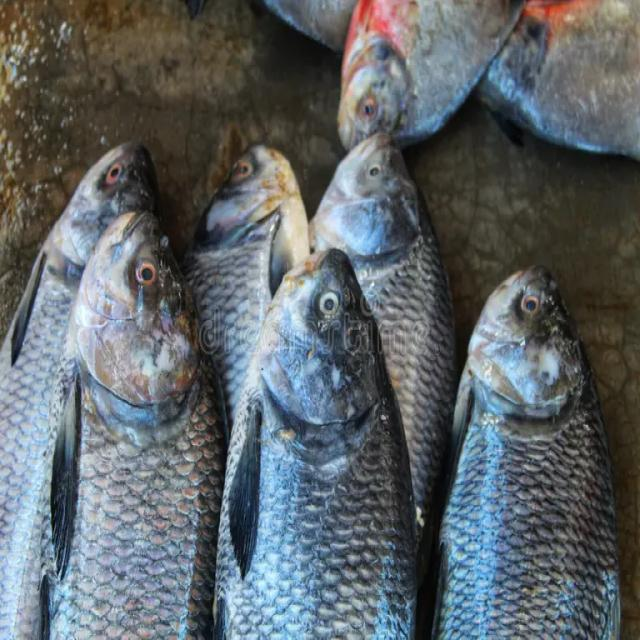Catla: (37, 211, 229, 639), (212, 250, 418, 639)
